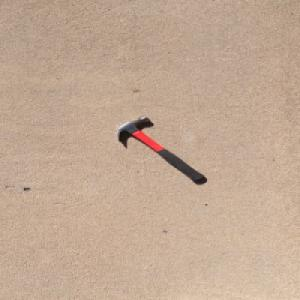Hammer: (115, 114, 206, 182)
